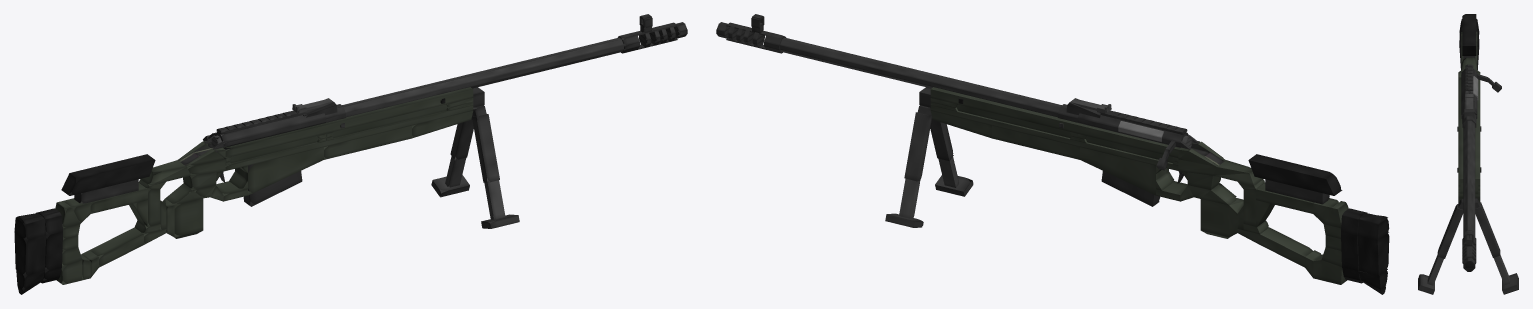
3 renders of one model, left to right at view 1: azimuth 30°, elevation 25°; view 2: azimuth 150°, elevation 25°; view 3: azimuth 270°, elevation 25°, orthographic. The views are drawn at different scales.
Visible parts, largest first — view 1: gunModel115, gunModel51, gunModel81, gunModel3, gunModel116, gunModel0, gunModel52, gunModel1, gunModel109, gunModel48, gunModel21, gunModel30 (+17 smaller); view 2: gunModel115, gunModel51, gunModel81, gunModel3, gunModel116, gunModel52, gunModel0, gunModel1, gunModel110, gunModel48, gunModel21, gunModel30 (+16 smaller); view 3: gunModel51, gunModel115, gunModel81, gunModel109, gunModel110, gunModel57, gunModel112, gunModel114, gunModel111, gunModel113, gunModel7, gunModel70 (+11 smaller).
Part boxes in pixels (x1=…): gunModel115: x1=223, y1=87, x2=473, y2=157; gunModel51: x1=342, y1=37, x2=625, y2=112; gunModel81: x1=61, y1=154, x2=155, y2=195; gunModel3: x1=235, y1=147, x2=323, y2=195; gunModel116: x1=225, y1=105, x2=473, y2=170; gunModel0: x1=225, y1=104, x2=450, y2=162; gunModel52: x1=346, y1=45, x2=627, y2=117; gunModel1: x1=324, y1=125, x2=411, y2=159; gunModel109: x1=472, y1=114, x2=499, y2=182; gunModel48: x1=14, y1=232, x2=46, y2=275; gunModel21: x1=89, y1=227, x2=143, y2=267; gunModel30: x1=174, y1=192, x2=203, y2=237; gunModel115: x1=930, y1=87, x2=1180, y2=157; gunModel51: x1=780, y1=37, x2=1061, y2=112; gunModel81: x1=1248, y1=154, x2=1342, y2=195; gunModel3: x1=1080, y1=147, x2=1168, y2=195; gunModel116: x1=930, y1=105, x2=1178, y2=170; gunModel52: x1=780, y1=45, x2=1057, y2=117; gunModel0: x1=956, y1=104, x2=1174, y2=162; gunModel1: x1=992, y1=125, x2=1079, y2=159; gunModel110: x1=904, y1=112, x2=931, y2=181; gunModel48: x1=1357, y1=233, x2=1389, y2=275; gunModel21: x1=1260, y1=227, x2=1312, y2=267; gunModel30: x1=1200, y1=199, x2=1229, y2=237; gunModel51: x1=1463, y1=120, x2=1475, y2=236; gunModel115: x1=1458, y1=78, x2=1480, y2=186; gunModel81: x1=1462, y1=14, x2=1476, y2=55; gunModel109: x1=1437, y1=204, x2=1463, y2=258; gunModel110: x1=1475, y1=202, x2=1500, y2=257; gunModel57: x1=1461, y1=69, x2=1477, y2=114; gunModel112: x1=1493, y1=255, x2=1510, y2=285; gunModel114: x1=1502, y1=273, x2=1518, y2=294; gunModel111: x1=1427, y1=255, x2=1443, y2=285; gunModel113: x1=1418, y1=274, x2=1434, y2=294; gunModel7: x1=1461, y1=57, x2=1477, y2=70; gunModel70: x1=1473, y1=76, x2=1478, y2=96.
Size of the model in its own units: 32.4 by 7.05 by 5.06.
